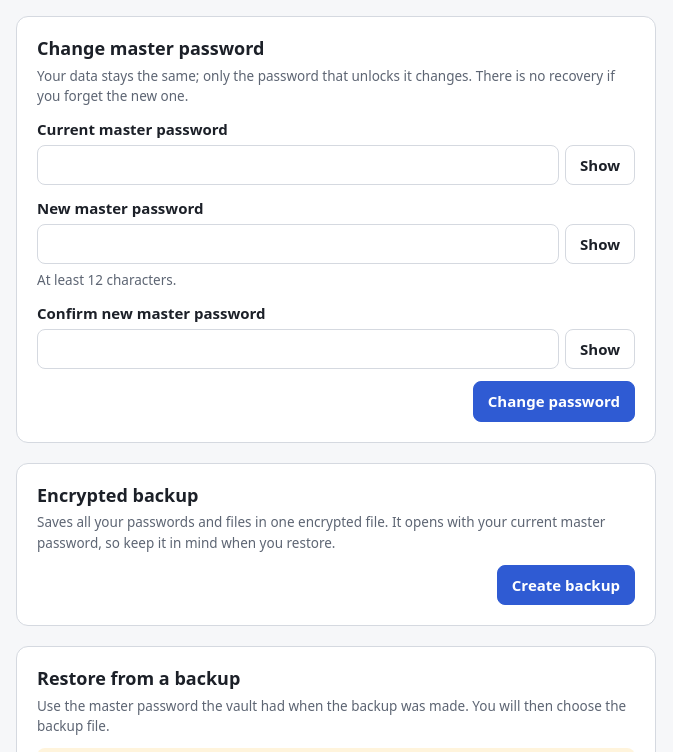
it: SettingsTab › changes the master password
Type "old test phrase" into the password field labelled "Current master password" at coordinates (298, 165), box [37,144,559,185]
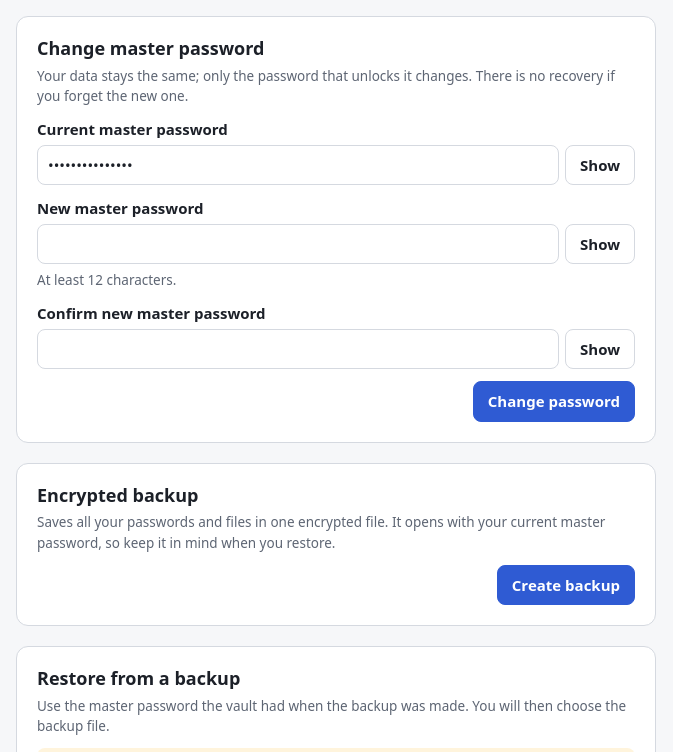
Type "new test phrase!" into the password field labelled "New master password" at coordinates (298, 244), box [37,224,559,264]
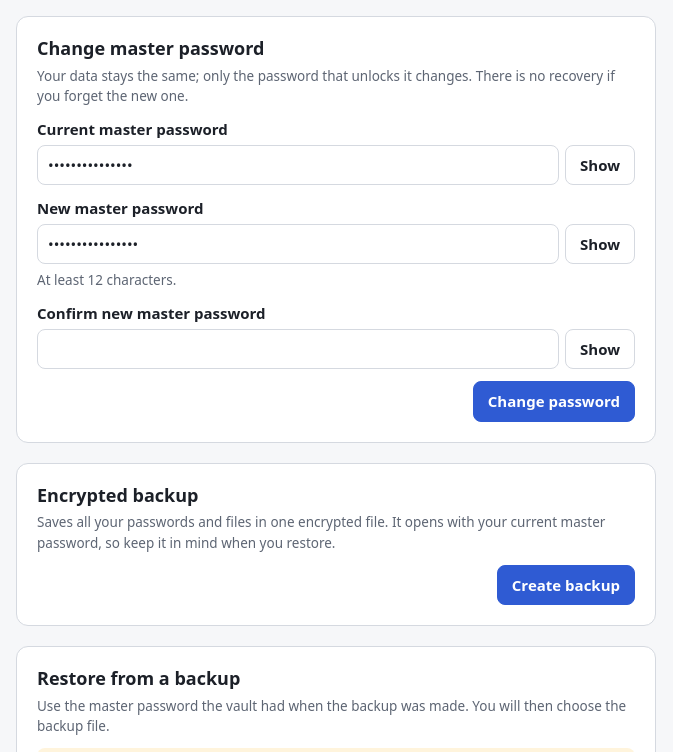
Type "new test phrase!" into the password field labelled "Confirm new master password" at coordinates (298, 349), box [37,329,559,369]
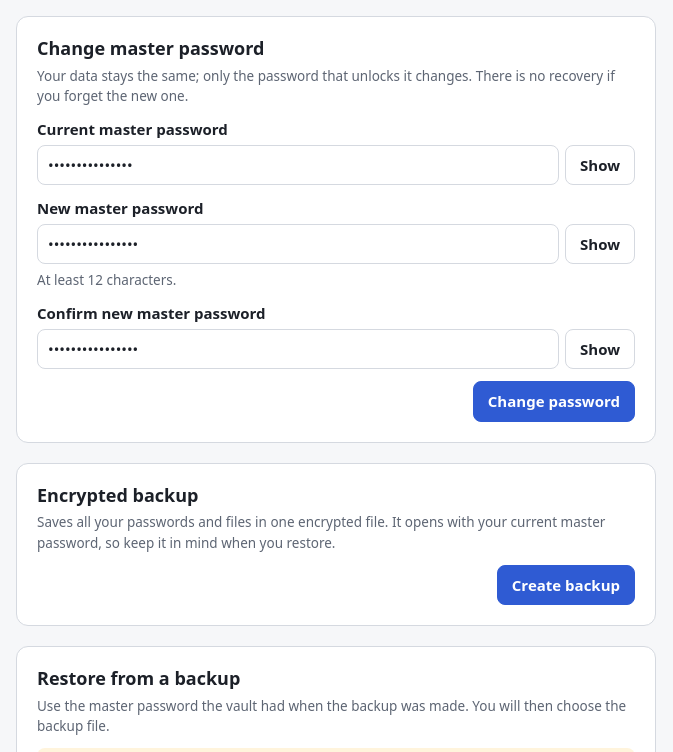
Click the button "Change password" at coordinates (554, 402), box [473,381,635,422]
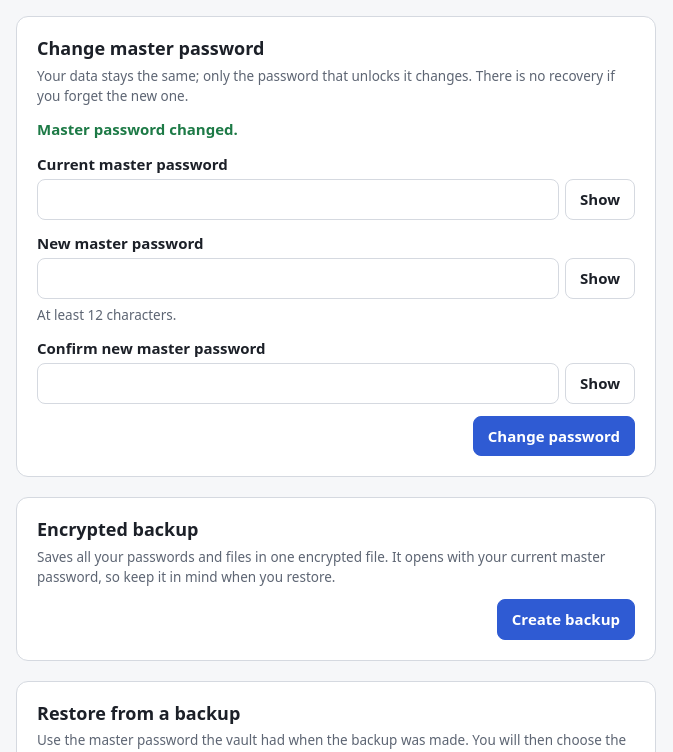
Result: the message reads "Master password changed." at [37,119,238,139]
Result: the password field labelled "Current master password" is empty at [37,179,559,220]
